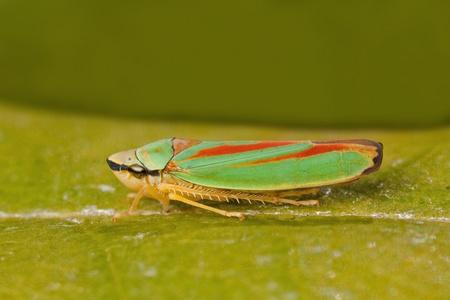Cicadellidae: (106, 135, 383, 214)
